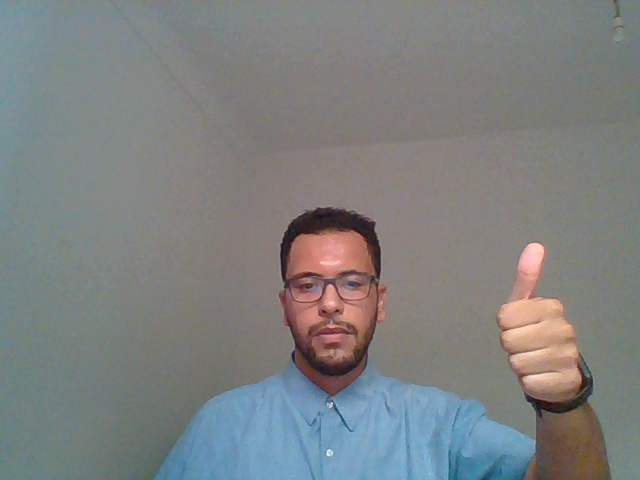ok: (455, 217, 639, 480)
